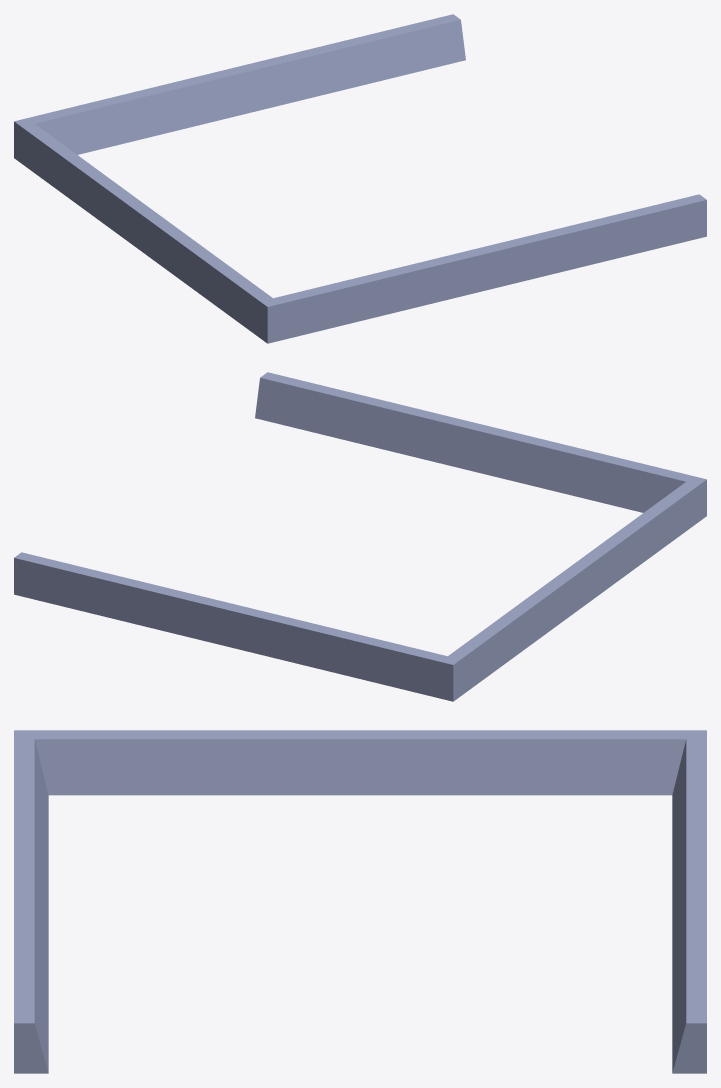
File: road-end-barrier.glb
The picture shows the model from 3 angles, top to bottom: view 1: azimuth 30°, elevation 25°; view 2: azimuth 150°, elevation 25°; view 3: azimuth 270°, elevation 25°; orthographic projection. The views are drawn at different scales.
Parts seen in each view (by area): view 1: road-end-barrier; view 2: road-end-barrier; view 3: road-end-barrier.
Part boxes in pixels (x1,y1,x2,y2): road-end-barrier: (14,14,706,343); road-end-barrier: (14,372,706,701); road-end-barrier: (14,730,706,1073).
Size of the model in its own units: 10 by 0.7996 by 10.
1 material, 1 textured.
